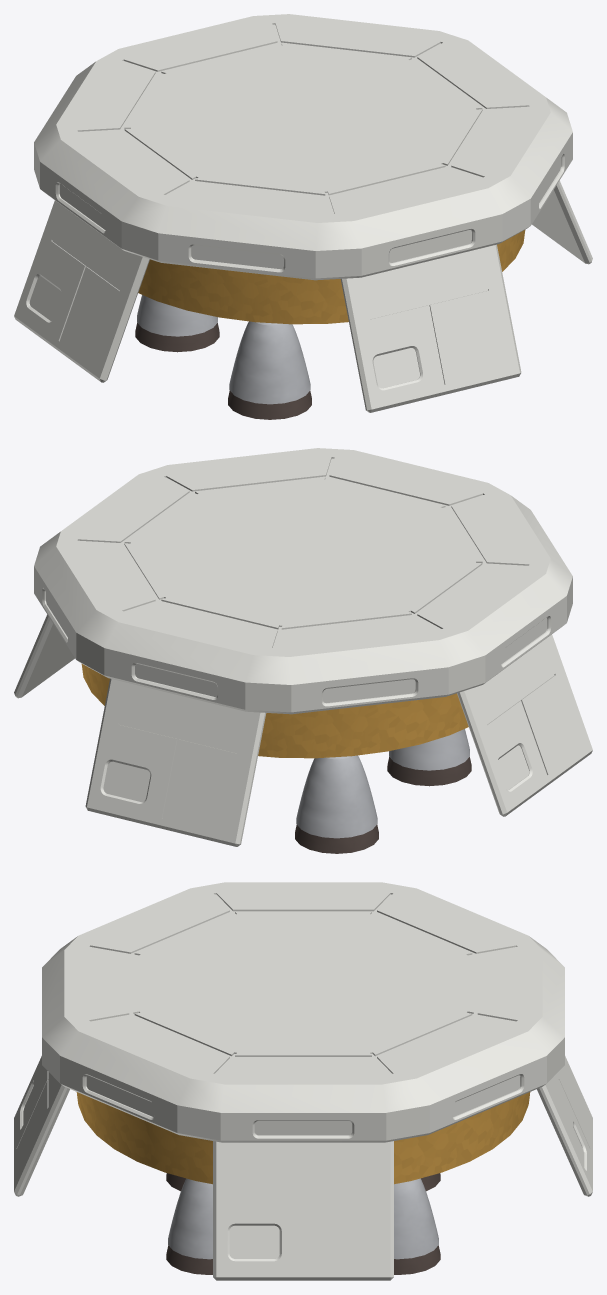
Rendered from ax_prop_02_hopper_cluster.glb.
3 renders of one model, top to bottom at view 1: azimuth 30°, elevation 25°; view 2: azimuth 150°, elevation 25°; view 3: azimuth 270°, elevation 25°, orthographic.
Visible parts, largest first — view 1: thrust_plate, deflector_skirt_4, deflector_skirt_3, mli_skirt, nozzles, nozzle_lips, deflector_skirt_1; view 2: thrust_plate, deflector_skirt_2, deflector_skirt_3, mli_skirt, nozzles, nozzle_lips, deflector_skirt_1; view 3: thrust_plate, deflector_skirt_1, mli_skirt, nozzles, deflector_skirt_2, deflector_skirt_4, nozzle_lips.
Boxes of the visible parts, <box> form: thrust_plate: <box>34,14,572,280</box>; deflector_skirt_4: <box>340,244,521,412</box>; deflector_skirt_3: <box>14,200,149,382</box>; mli_skirt: <box>138,230,525,324</box>; nozzles: <box>137,295,310,404</box>; nozzle_lips: <box>135,323,311,419</box>; deflector_skirt_1: <box>532,180,592,264</box>; thrust_plate: <box>34,448,572,714</box>; deflector_skirt_2: <box>85,678,266,846</box>; deflector_skirt_3: <box>457,634,592,816</box>; mli_skirt: <box>81,664,468,758</box>; nozzles: <box>296,729,469,838</box>; nozzle_lips: <box>295,757,471,853</box>; deflector_skirt_1: <box>14,614,74,698</box>; thrust_plate: <box>42,882,564,1142</box>; deflector_skirt_1: <box>213,1141,393,1280</box>; mli_skirt: <box>76,1092,530,1184</box>; nozzles: <box>168,1178,438,1259</box>; deflector_skirt_2: <box>537,1056,592,1196</box>; deflector_skirt_4: <box>14,1056,69,1196</box>; nozzle_lips: <box>166,1173,440,1274</box>.
Size of the model in its own units: 4.15 by 1.85 by 4.15.
6 materials, 4 textured.
